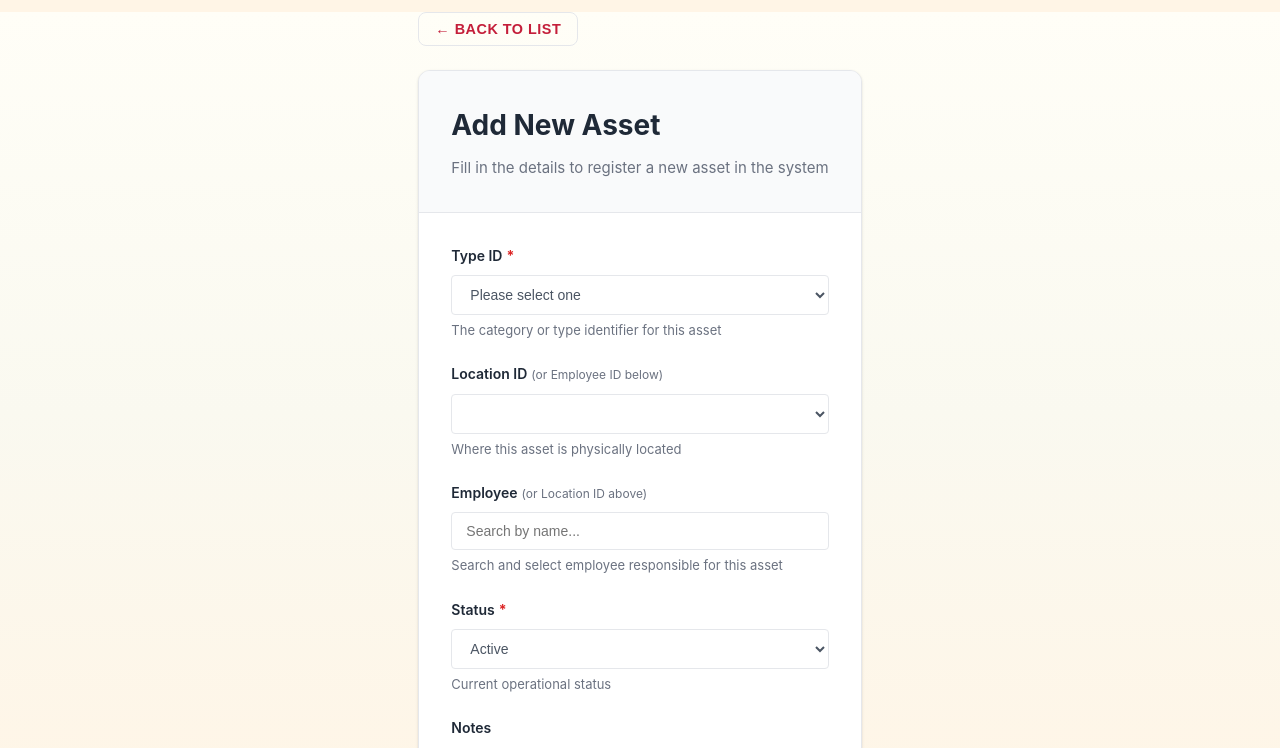
Test: AssetAddView › displays employee search dropdown when typing
Step 1. Type "John" into the field with id "employee_search" → (640, 531), box [451, 512, 829, 550]
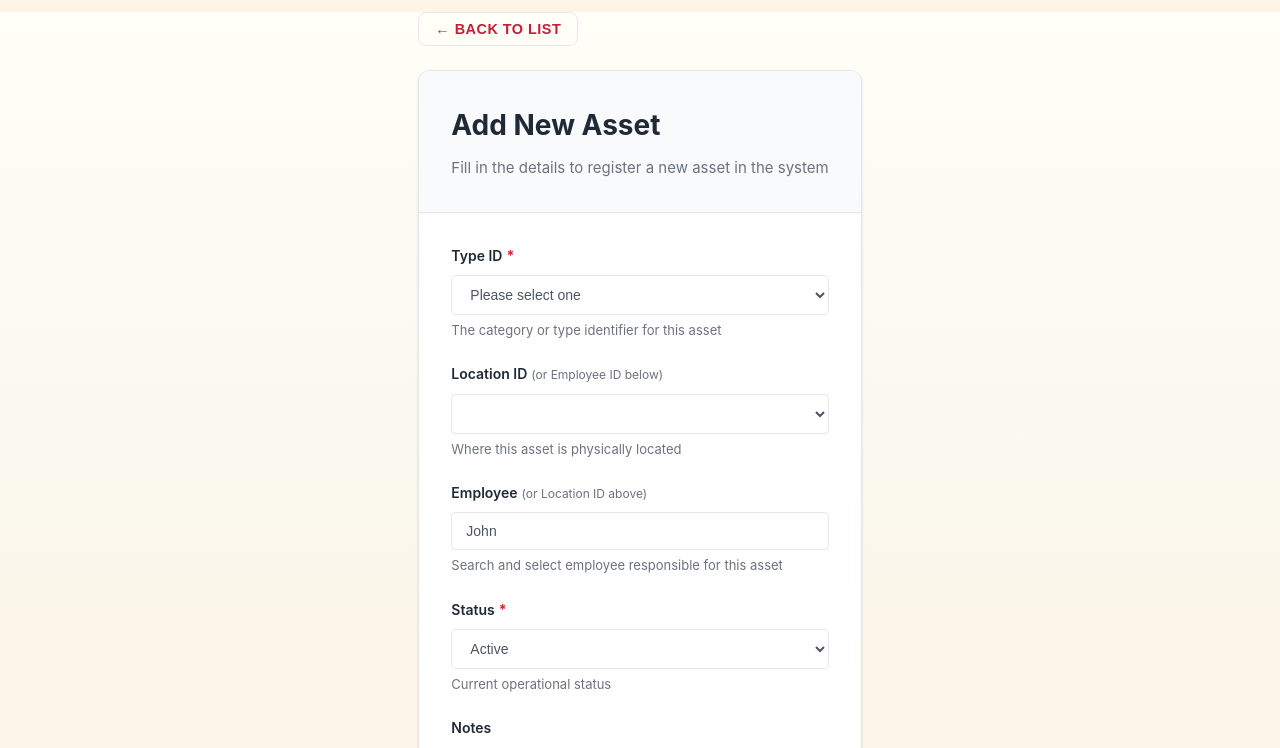
Step 2. Focus the field with id "employee_search" → (640, 531), box [451, 512, 829, 550]
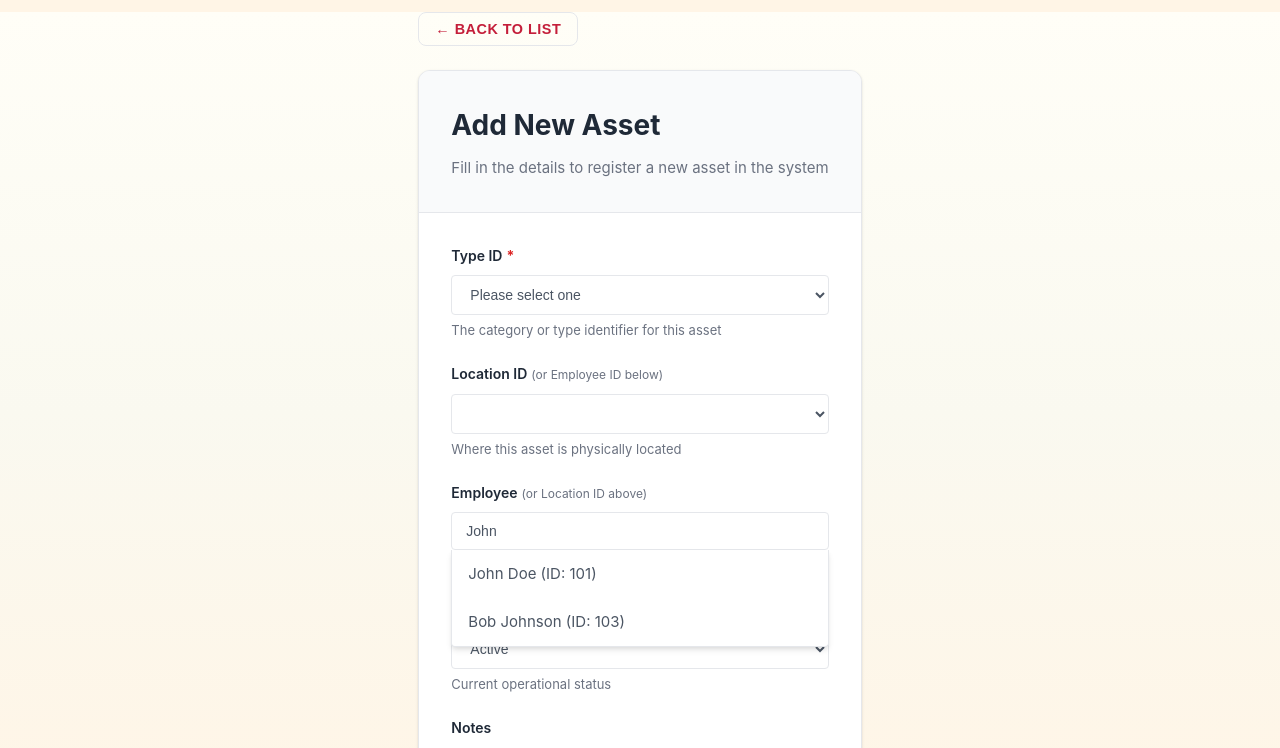
Expected: the element with class "employee-dropdown" is shown, [451, 550, 829, 647]
